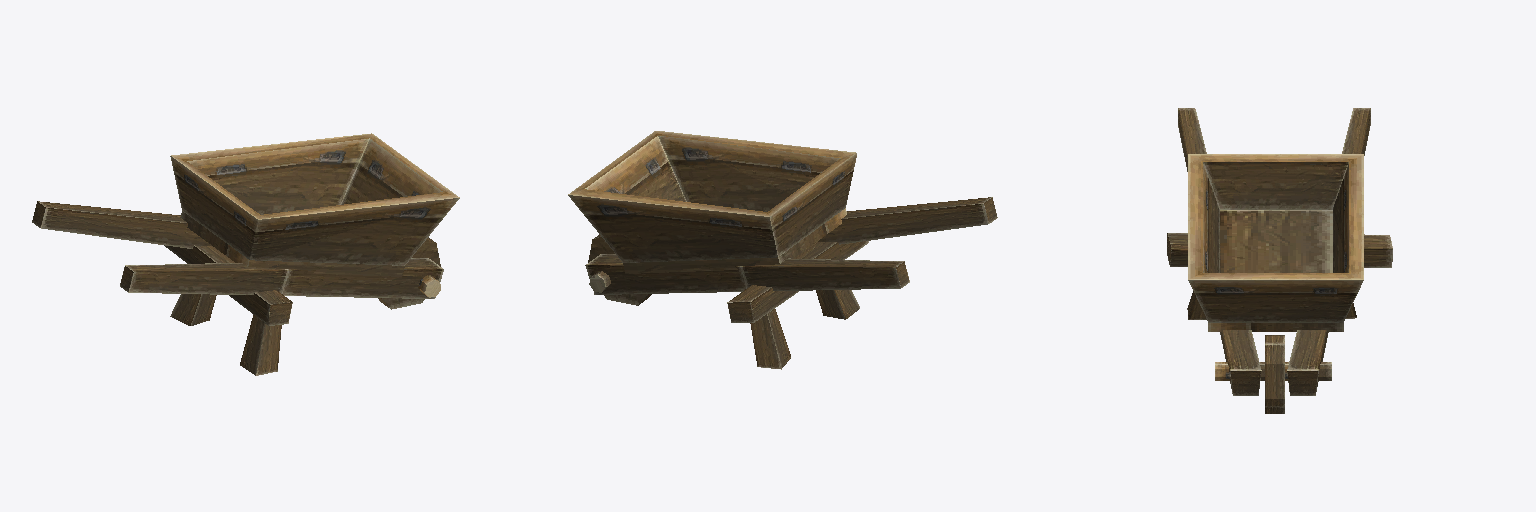
3 views of the same model, side by side, from view 1: azimuth 30°, elevation 25°; view 2: azimuth 150°, elevation 25°; view 3: azimuth 270°, elevation 25° (orthographic).
Parts seen in each view (by area): view 1: caveminewheelbarrow01.m2; view 2: caveminewheelbarrow01.m2; view 3: caveminewheelbarrow01.m2.
Part boxes in pixels (left/top/right/bottom): caveminewheelbarrow01.m2: left=32, top=133, right=459, bottom=375; caveminewheelbarrow01.m2: left=568, top=131, right=997, bottom=369; caveminewheelbarrow01.m2: left=1167, top=108, right=1392, bottom=413.
Bounding box in the file's own units: 2.89 × 1.24 × 1.58.
1 materials, 1 textured.